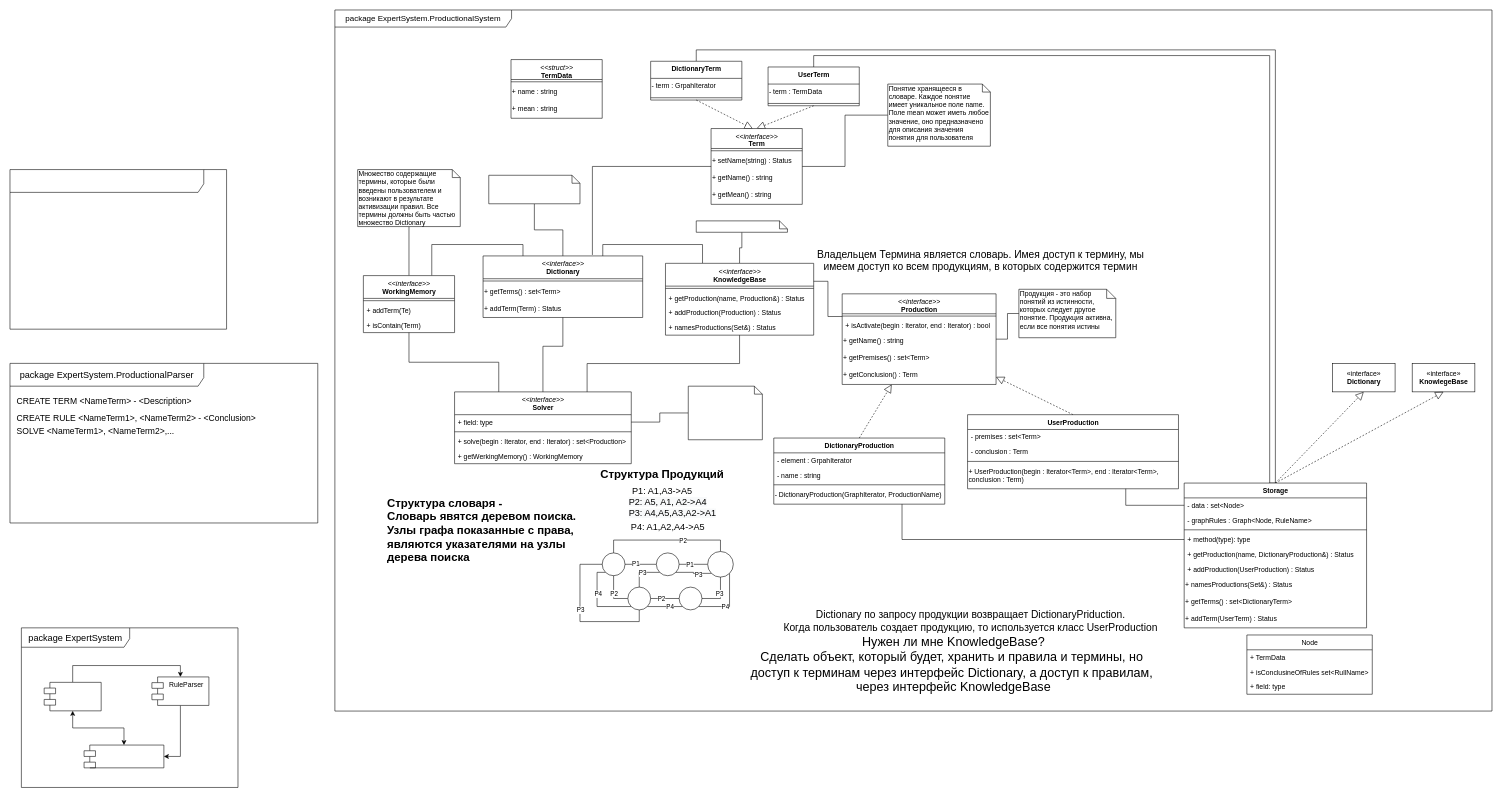
Some shapes in this 1502 by 797 pixel diagram are drawn without their labels. The centre of each missing label's shape, as x and y in pixels:
"A1 (P3)" belongs at (613,564).
"A4 (P2)" belongs at (690,598).
"A5 (P1, P4)" belongs at (720,564).
"package ExpertSystem.UserInterface" belongs at (118,249).
"ProductionalSystem" belongs at (124,756).
"UserInterface" belongs at (72,696).
"А2" belongs at (639,598).
"А3" belongs at (667,564).
"Алгоритм выполняющий вывод фактов на основе данных загруженных пользователем" belongs at (725,413).
"Множество продукций" belongs at (741,226).
"Множество терминов используемое в базе знаний" belongs at (534,189).
